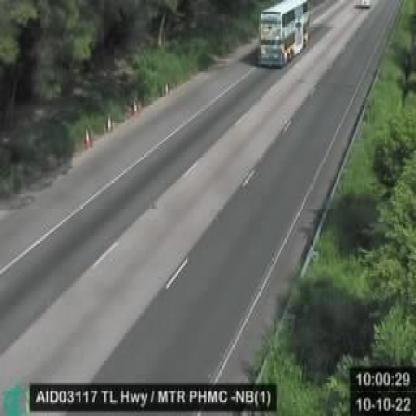Bus: (259, 1, 310, 66)
